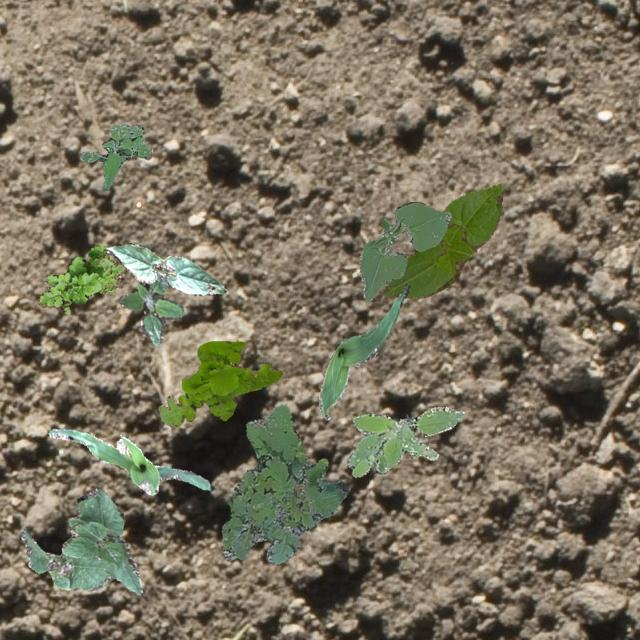crop: (382, 182, 502, 298), (318, 282, 408, 418), (48, 428, 210, 494), (358, 200, 450, 300), (60, 488, 142, 594), (104, 242, 226, 294), (20, 528, 114, 590)
weed: (220, 403, 348, 562), (157, 340, 280, 426), (346, 406, 464, 476), (38, 244, 122, 314), (80, 122, 152, 188), (119, 272, 182, 344)
